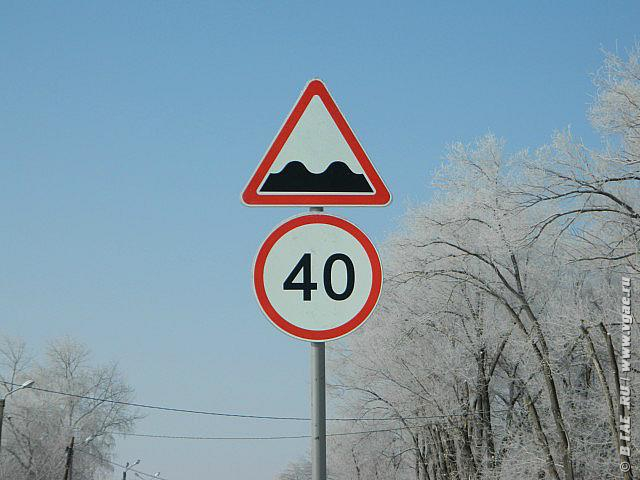1.16.2: (242, 75, 394, 207)
